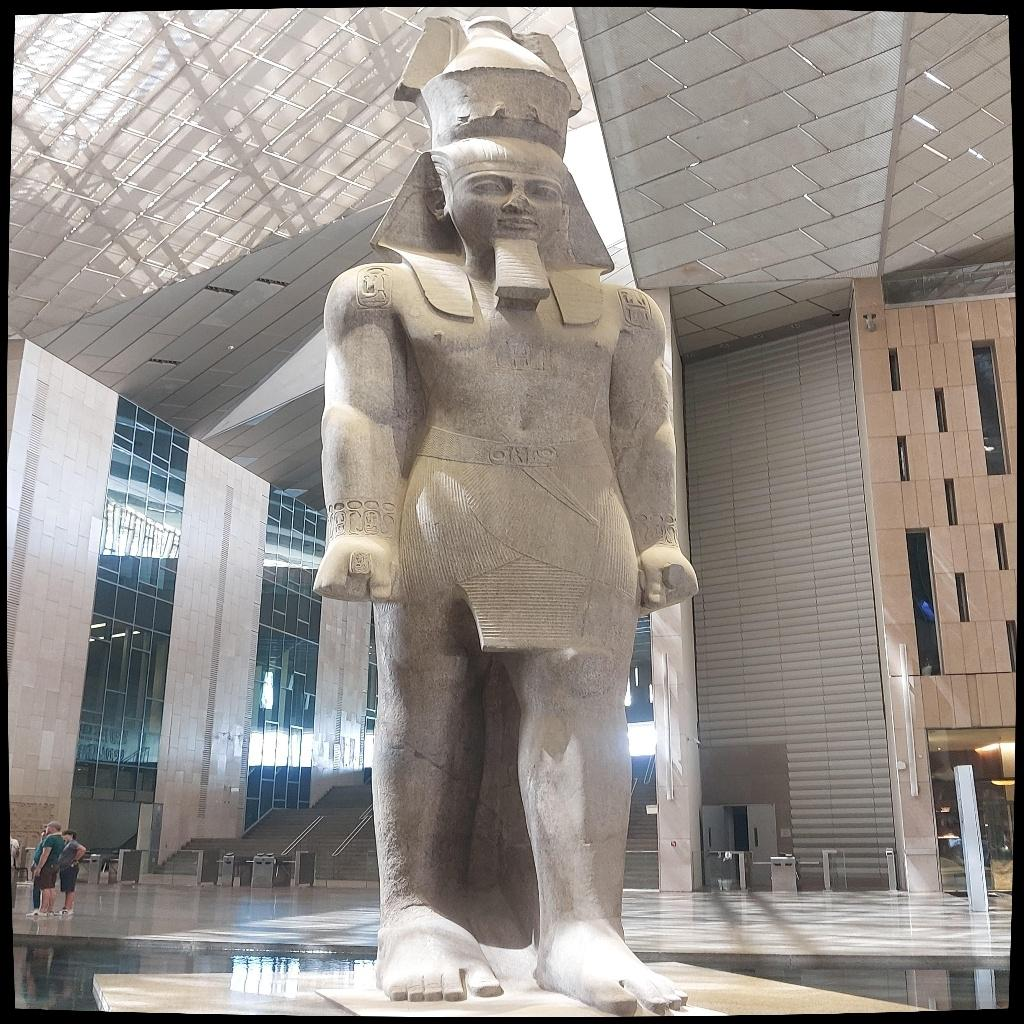Statue of King Ramses II Grand Egyptian Museum: (307, 15, 710, 1014)
